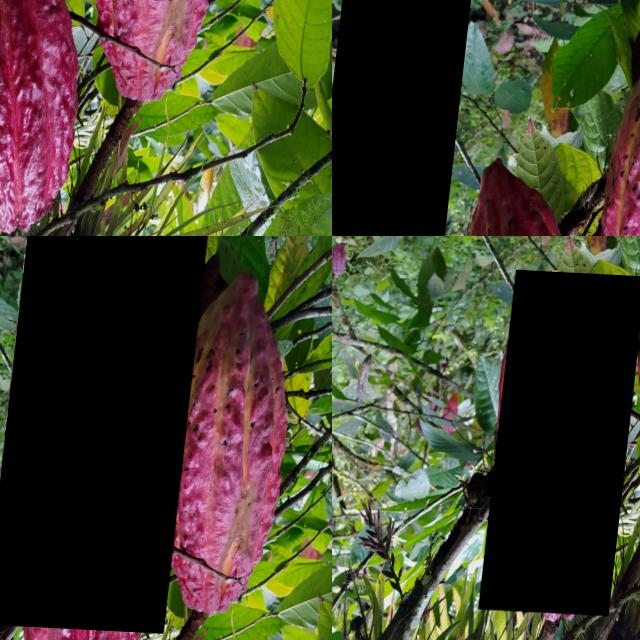Monilia: (332, 0, 476, 236)
Sana: (0, 236, 213, 629), (491, 267, 640, 611), (332, 135, 361, 236), (334, 238, 354, 276)
